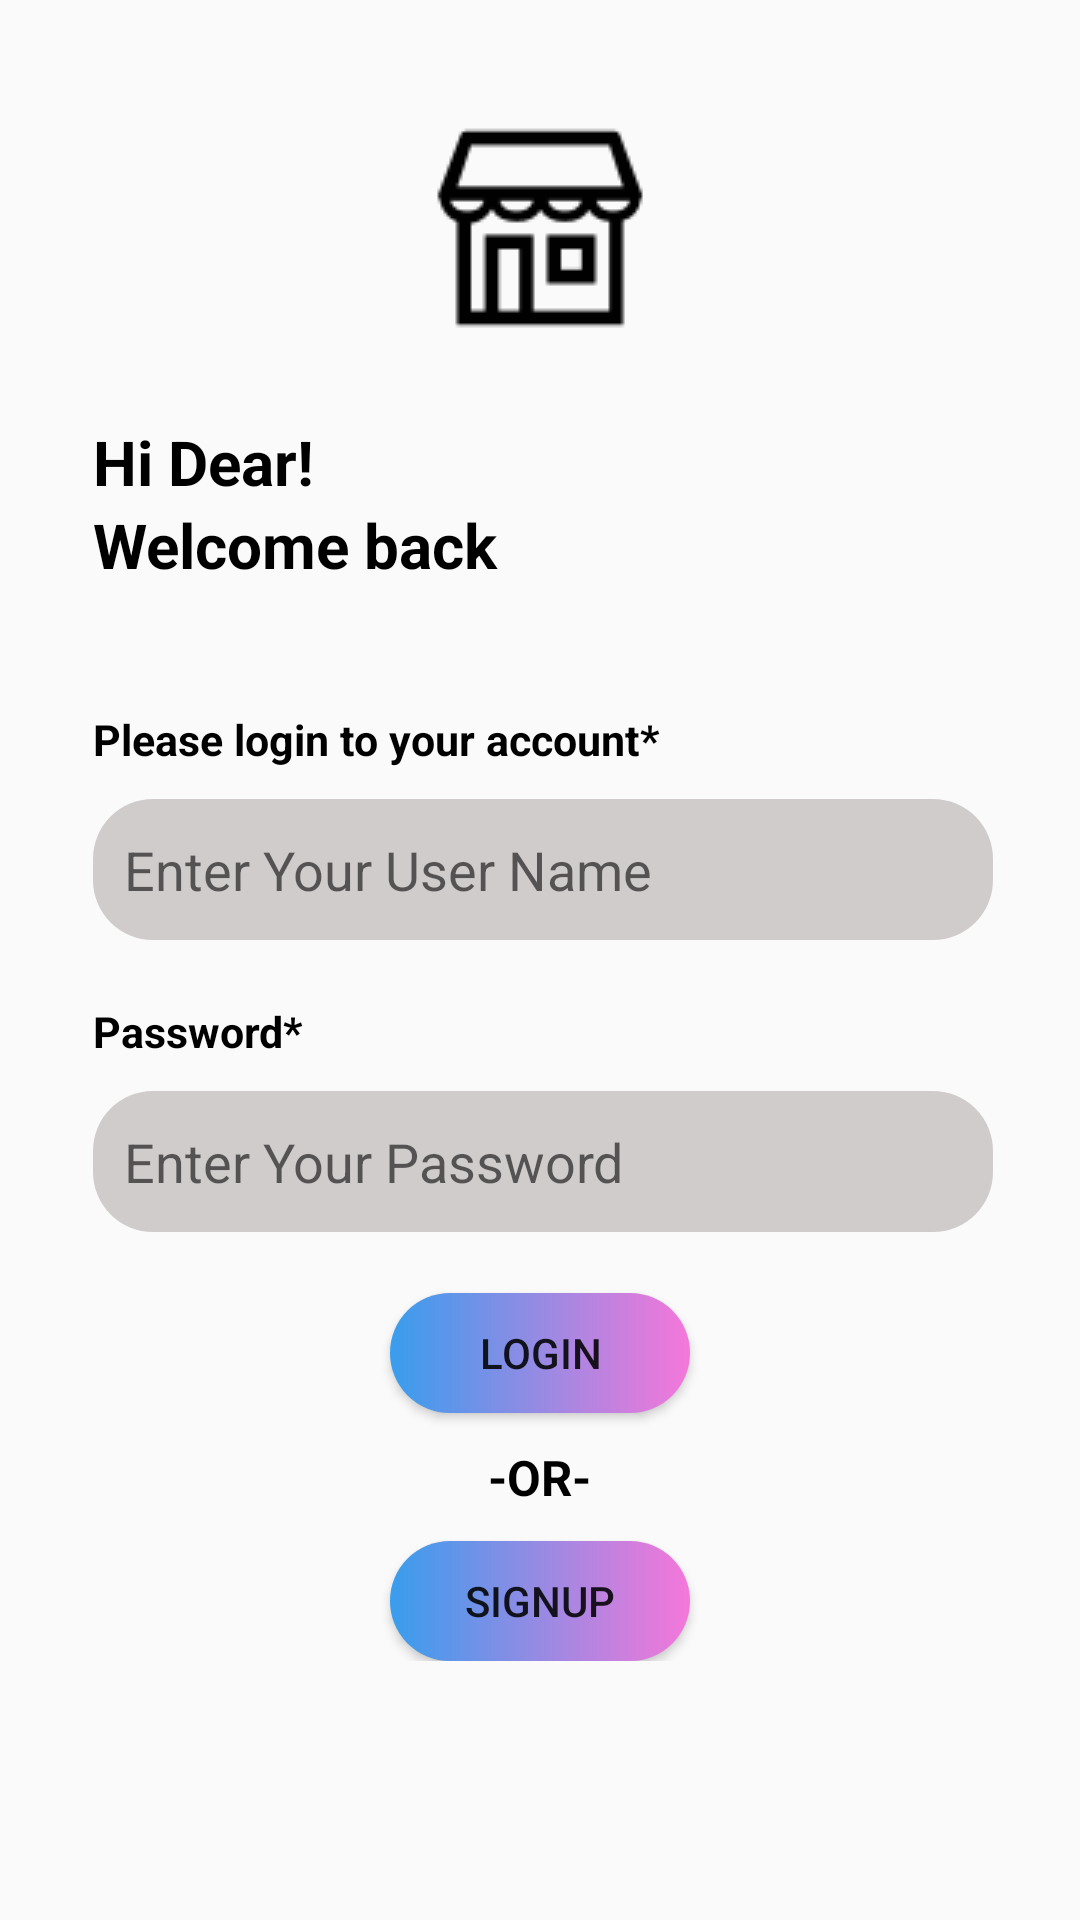

Icons on this 1080 × 1920 Android screen, each with the point to tap as (x=x, y=y):
restaurant: (x=540, y=228)
